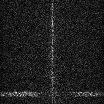wifi: (1, 90, 104, 96)
